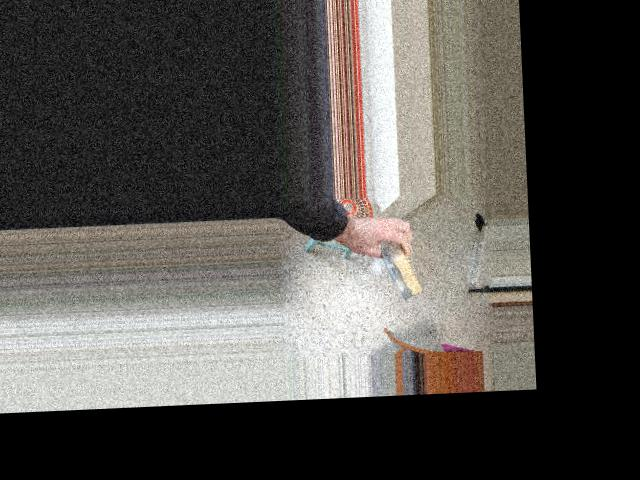cheese: (362, 208, 443, 306)
